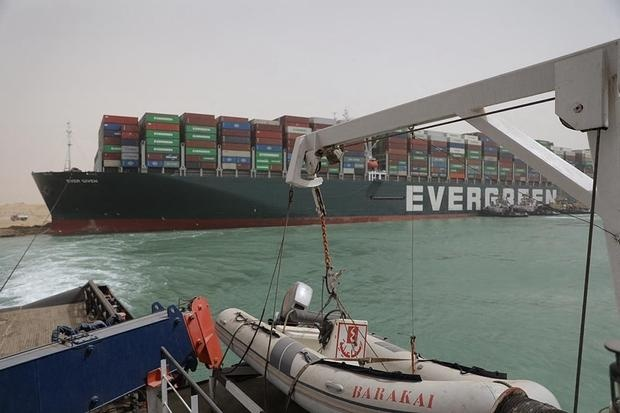Cargoship: (26, 105, 586, 247)
